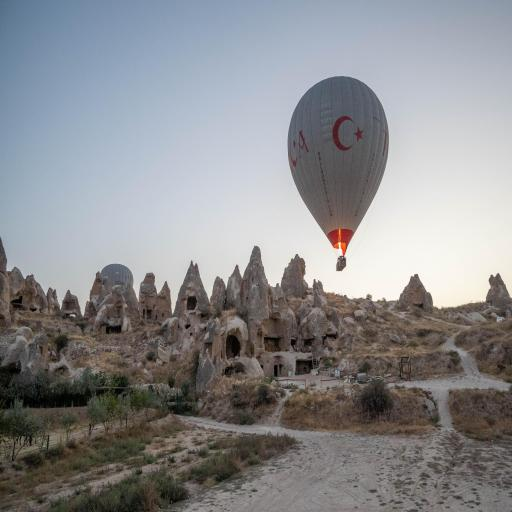hot air ballon: (287, 75, 389, 272)
